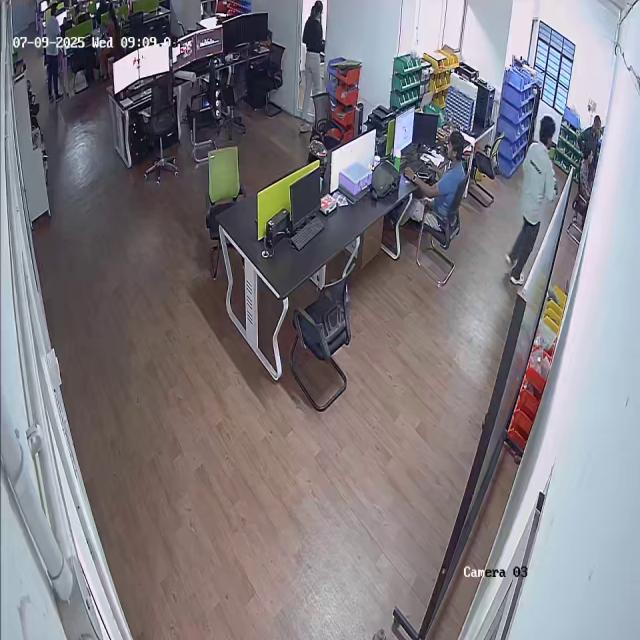person: (504, 113, 558, 285), (424, 132, 471, 221), (296, 0, 323, 128), (42, 2, 63, 101)
